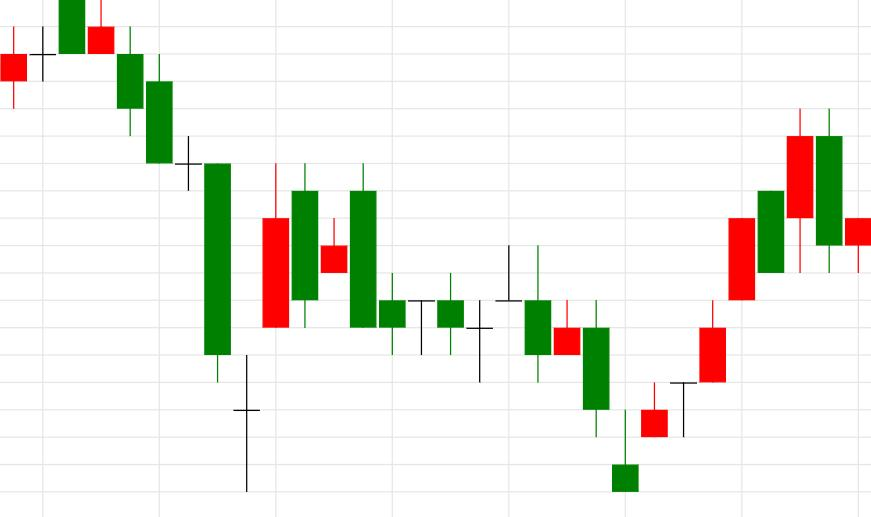morning_star_rise: (59, 0, 289, 493)
